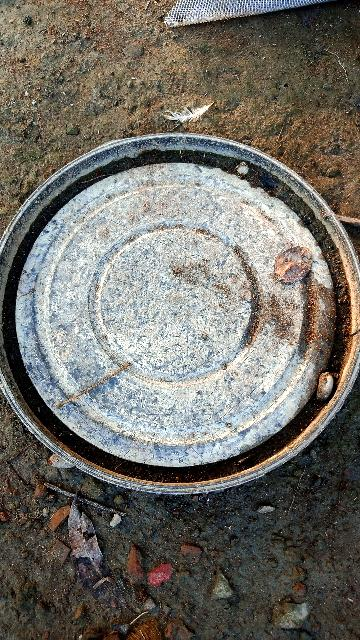hardplastic: (0, 128, 360, 493)
